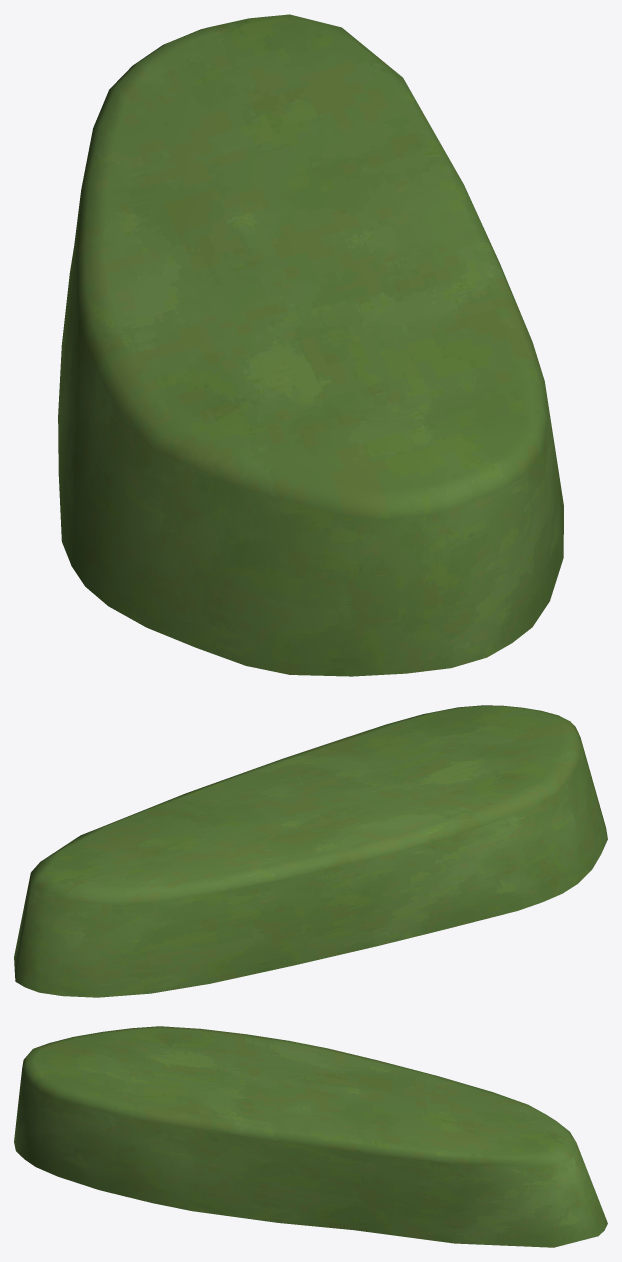
Rendered from hill_3.fbx.
3 renders of one model, top to bottom at view 1: azimuth 30°, elevation 25°; view 2: azimuth 150°, elevation 25°; view 3: azimuth 270°, elevation 25°, orthographic. The views are drawn at different scales.
Visible parts, largest first — view 1: hill_2; view 2: hill_2; view 3: hill_2.
Part boxes in pixels (bbox=[...]): hill_2: bbox=[58, 14, 563, 676]; hill_2: bbox=[14, 705, 607, 997]; hill_2: bbox=[14, 1026, 607, 1247].
Size of the model in its own units: 1341 by 341 by 2199.
